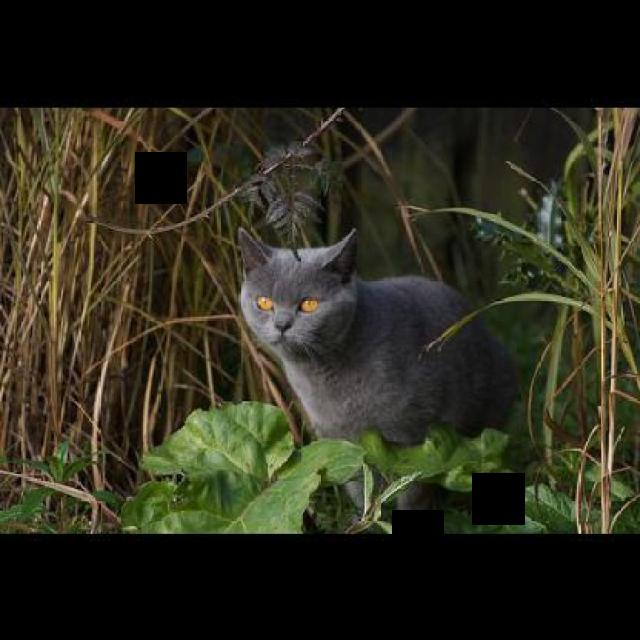unauthorized: (234, 224, 518, 530)
